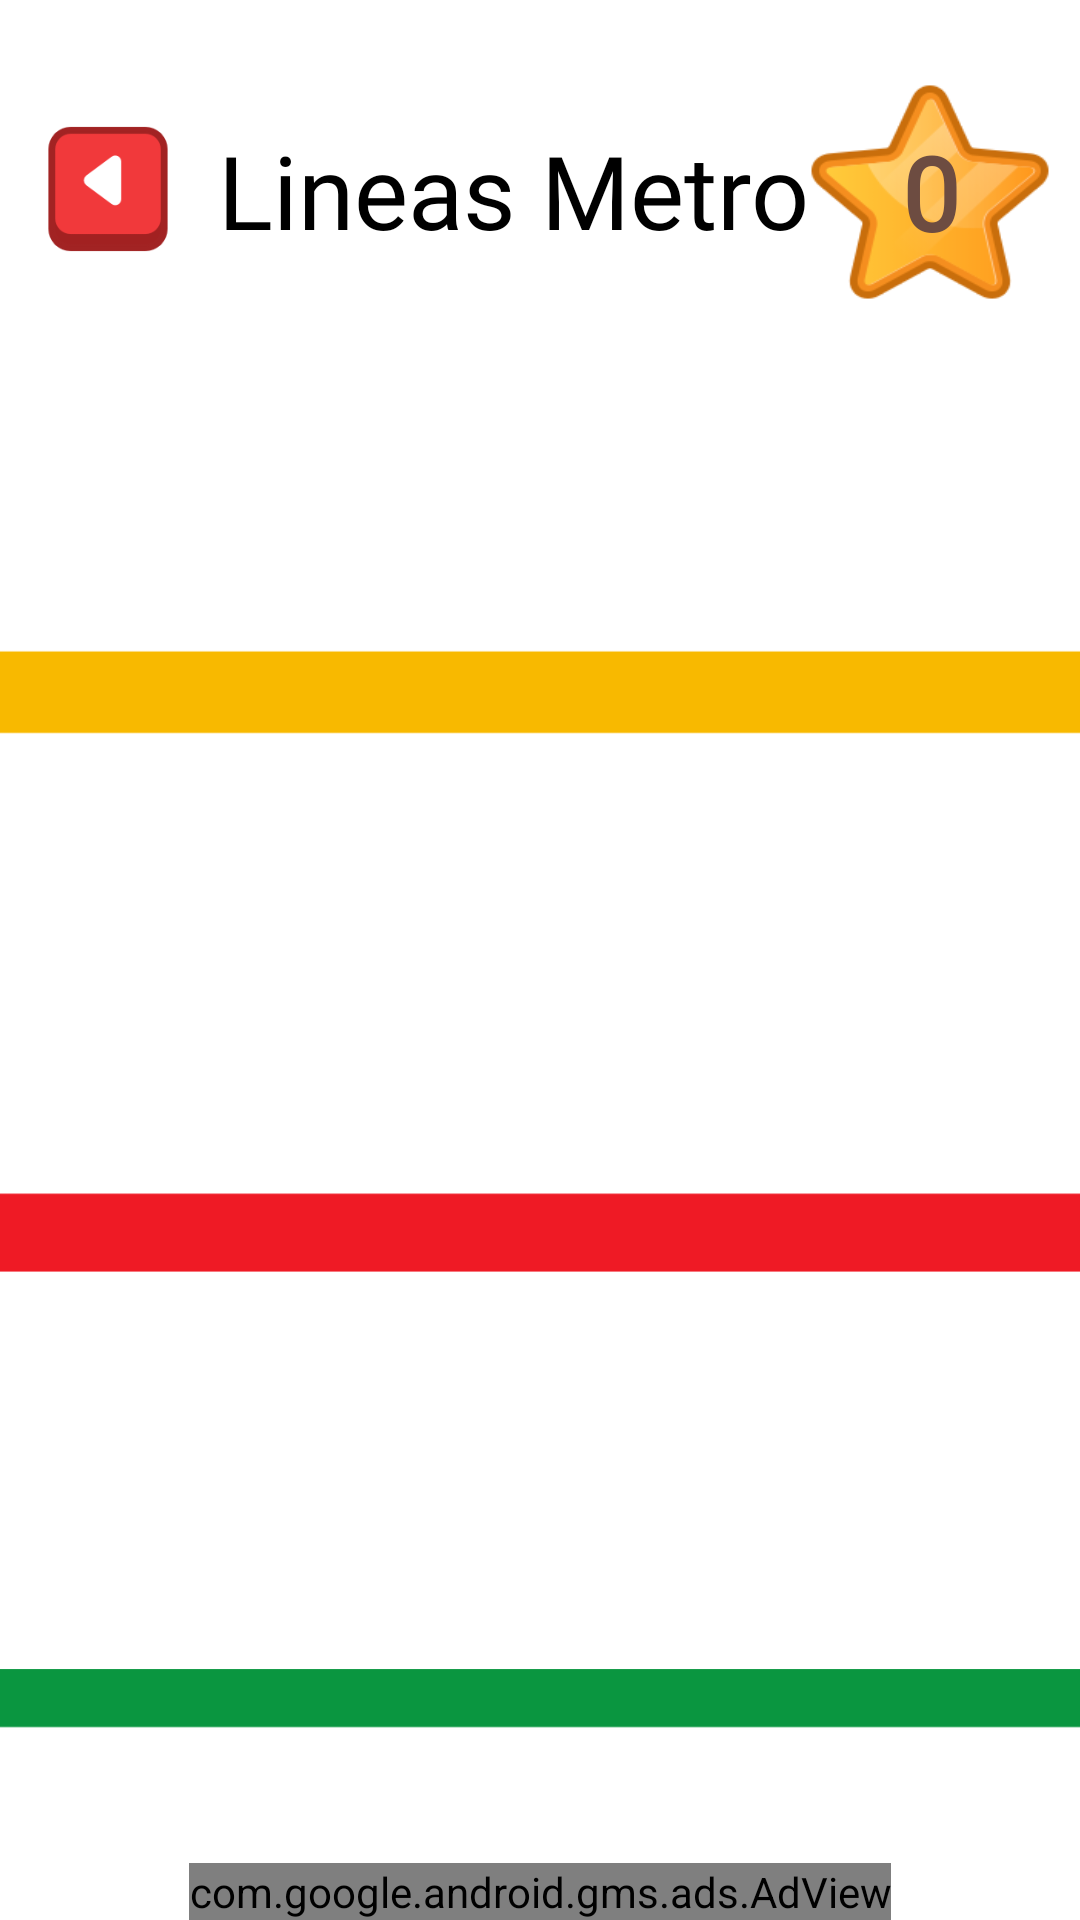

Icon click points for this 1080px×1920px phone screenshot, format (x=x, y=y):
Boton para ir hacia atras: (x=108, y=189)
